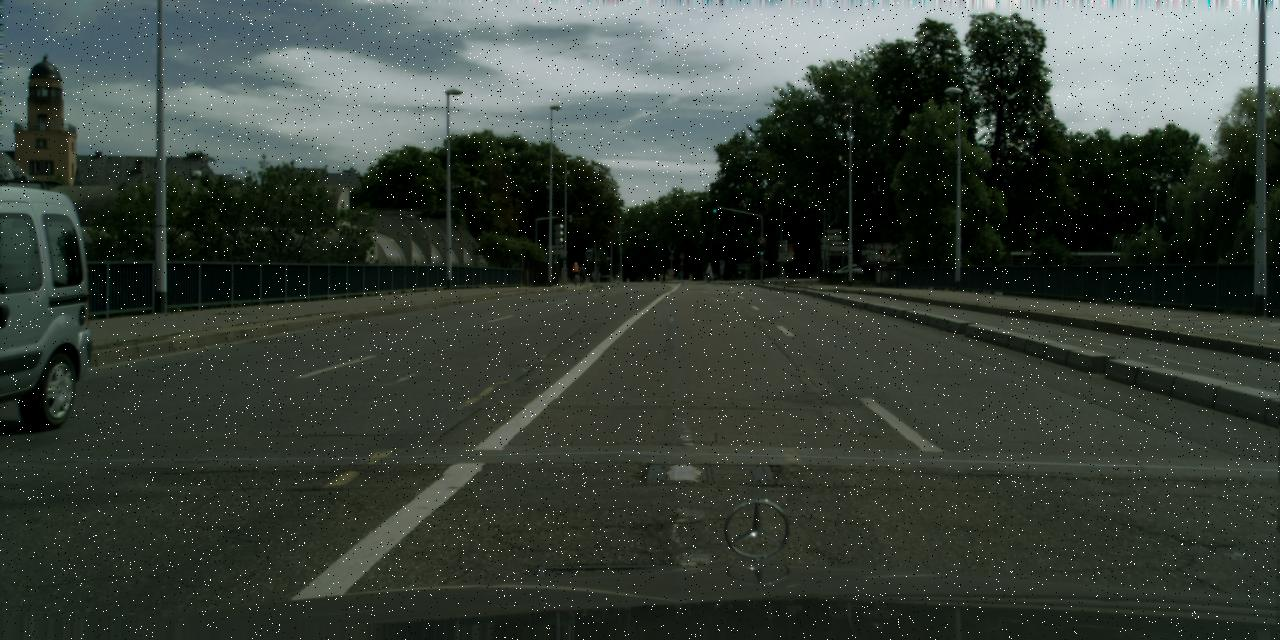ped: (704, 262, 712, 282), (571, 261, 579, 280), (578, 264, 585, 281)
